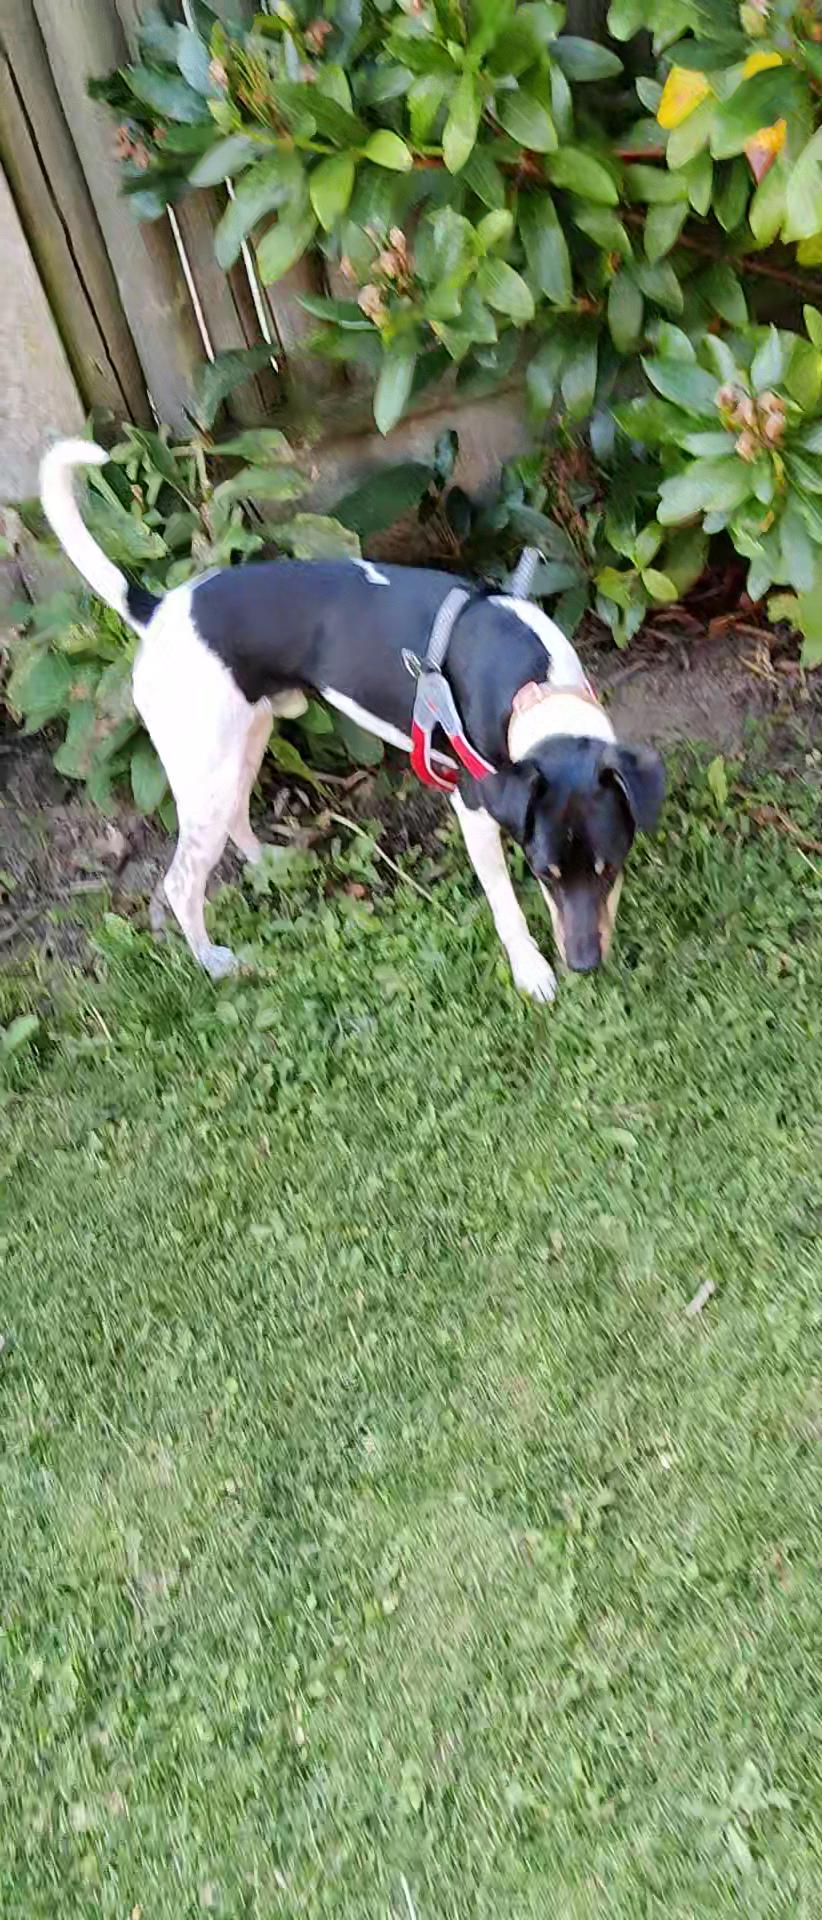Dog: (20, 419, 675, 1022)
